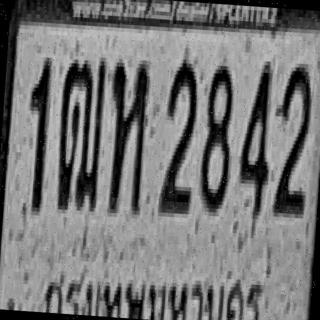A18: (54, 55, 107, 212)
A41: (103, 58, 150, 214)
N01: (22, 56, 52, 212)
N02: (158, 55, 200, 214), (272, 60, 314, 216)
N04: (236, 58, 276, 217)
N08: (197, 61, 235, 213)
